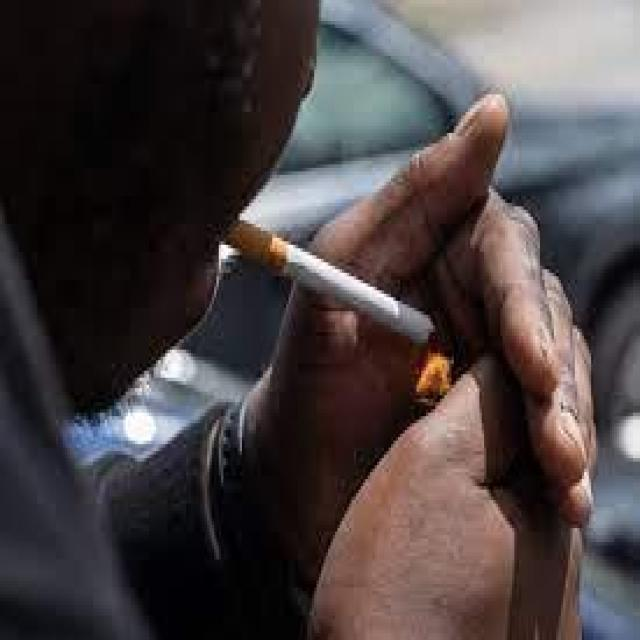cigarette: (223, 224, 438, 346)
